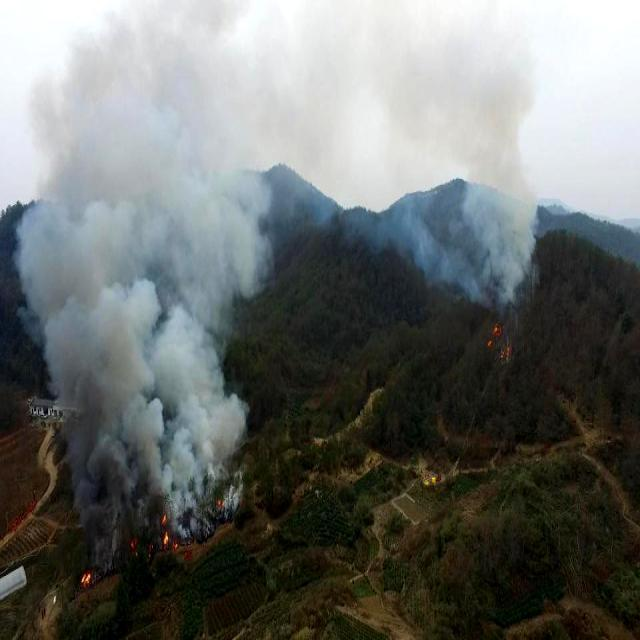Smoke: (16, 0, 250, 529), (388, 3, 537, 306)
